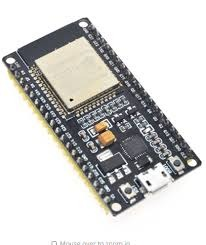ESP32-WROOM: (0, 3, 206, 229)
